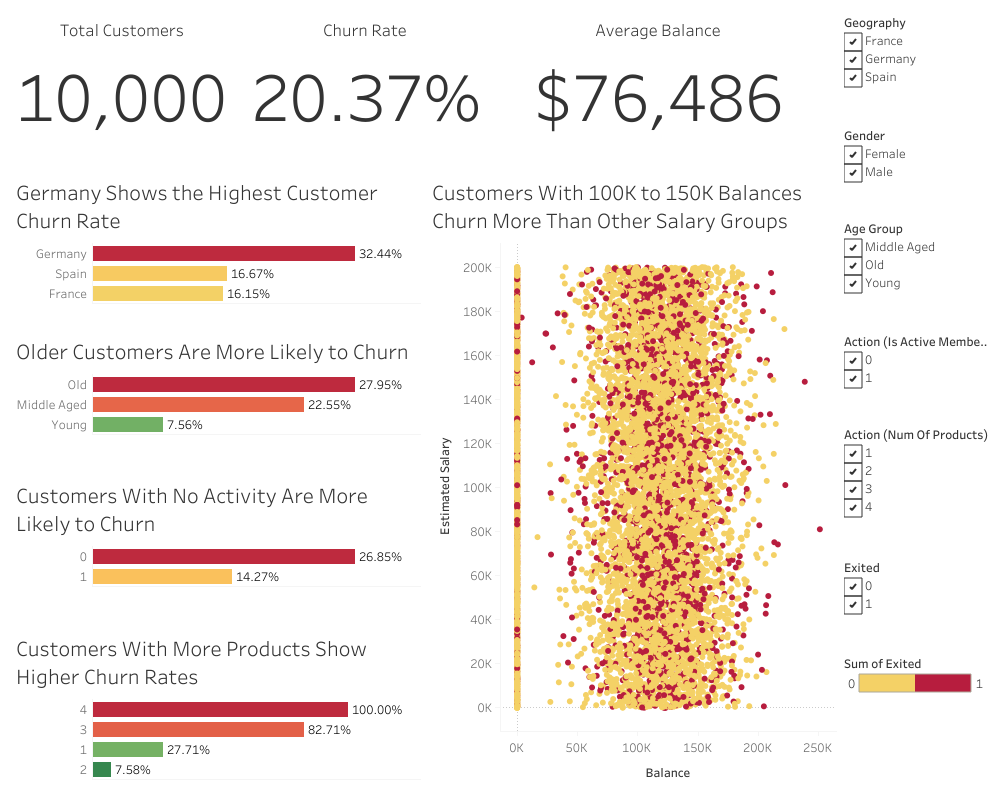

The page's visual inventory and layout, read from the dashboard file:
{"tool":"tableau","page":{"name":"Churn Rate Dashboard","canvas":[1000,800],"ordinal":0},"visuals":[{"type":"worksheet","title":"total customers","mark":"Automatic","box":[8,8,284.5,113]},{"type":"worksheet","title":"churn rate","mark":"Automatic","box":[292.5,8,284.5,113]},{"type":"worksheet","title":"average balance","mark":"Automatic","box":[577,8,255,113]},{"type":"filter","title":"Balance vs Salary Scatter Plot","param":"[federated.0bmxef50vsjd7j11pif72185505a].[none:Geography:nk]","box":[832,8,160,113]},{"type":"worksheet","title":"Churn by Geography","mark":"Automatic","rows":["Geography"],"cols":["Calculation_0014426584875107"],"box":[8,121,412,167.8]},{"type":"worksheet","title":"Balance vs Salary Scatter Plot","mark":"Automatic","rows":["EstimatedSalary"],"cols":["Balance"],"box":[420,121,412,671]},{"type":"filter","title":"Balance vs Salary Scatter Plot","param":"[federated.0bmxef50vsjd7j11pif72185505a].[none:Gender:nk]","box":[832,121,160,93]},{"type":"filter","title":"Balance vs Salary Scatter Plot","param":"[federated.0bmxef50vsjd7j11pif72185505a].[none:age_group:nk]","box":[832,214,160,113]},{"type":"worksheet","title":"Churn by Age Group","mark":"Automatic","rows":["age_group"],"cols":["Calculation_0014426584875107"],"box":[8,288.8,412,167.7]},{"type":"filter","title":"Balance vs Salary Scatter Plot","param":"[federated.0bmxef50vsjd7j11pif72185505a].[Action (Is Active Member)]","box":[832,327,160,93]},{"type":"filter","title":"Balance vs Salary Scatter Plot","param":"[federated.0bmxef50vsjd7j11pif72185505a].[Action (Num Of Products)]","box":[832,420,160,133]},{"type":"worksheet","title":"Churn by Activity","mark":"Automatic","rows":["IsActiveMember"],"cols":["Calculation_0014426584875107"],"box":[8,456.5,412,167.8]},{"type":"filter","title":"Balance vs Salary Scatter Plot","param":"[federated.0bmxef50vsjd7j11pif72185505a].[none:Exited:ok]","box":[832,553,160,93]},{"type":"worksheet","title":"Churn by Number of Products","mark":"Automatic","rows":["NumOfProducts"],"cols":["Calculation_0014426584875107"],"box":[8,624.2,412,167.8]},{"type":"legend","title":"Balance vs Salary Scatter Plot","param":"[federated.0bmxef50vsjd7j11pif72185505a].[sum:Exited:qk]","box":[832,646,160,68]}]}

Visuals, with their boxes in screenshot pixels (x1, y1, x2, y2), scaled from the page's 1000x800 canvas onto the 999x799 screenshot:
"total customers" worksheet: {"x1": 8, "y1": 8, "x2": 292, "y2": 121}
"churn rate" worksheet: {"x1": 292, "y1": 8, "x2": 576, "y2": 121}
"average balance" worksheet: {"x1": 576, "y1": 8, "x2": 831, "y2": 121}
"Balance vs Salary Scatter Plot" filter: {"x1": 831, "y1": 8, "x2": 991, "y2": 121}
"Churn by Geography" worksheet: {"x1": 8, "y1": 121, "x2": 420, "y2": 288}
"Balance vs Salary Scatter Plot" worksheet: {"x1": 420, "y1": 121, "x2": 831, "y2": 791}
"Balance vs Salary Scatter Plot" filter: {"x1": 831, "y1": 121, "x2": 991, "y2": 214}
"Balance vs Salary Scatter Plot" filter: {"x1": 831, "y1": 214, "x2": 991, "y2": 327}
"Churn by Age Group" worksheet: {"x1": 8, "y1": 288, "x2": 420, "y2": 456}
"Balance vs Salary Scatter Plot" filter: {"x1": 831, "y1": 327, "x2": 991, "y2": 419}
"Balance vs Salary Scatter Plot" filter: {"x1": 831, "y1": 419, "x2": 991, "y2": 552}
"Churn by Activity" worksheet: {"x1": 8, "y1": 456, "x2": 420, "y2": 624}
"Balance vs Salary Scatter Plot" filter: {"x1": 831, "y1": 552, "x2": 991, "y2": 645}
"Churn by Number of Products" worksheet: {"x1": 8, "y1": 623, "x2": 420, "y2": 791}
"Balance vs Salary Scatter Plot" legend: {"x1": 831, "y1": 645, "x2": 991, "y2": 713}
